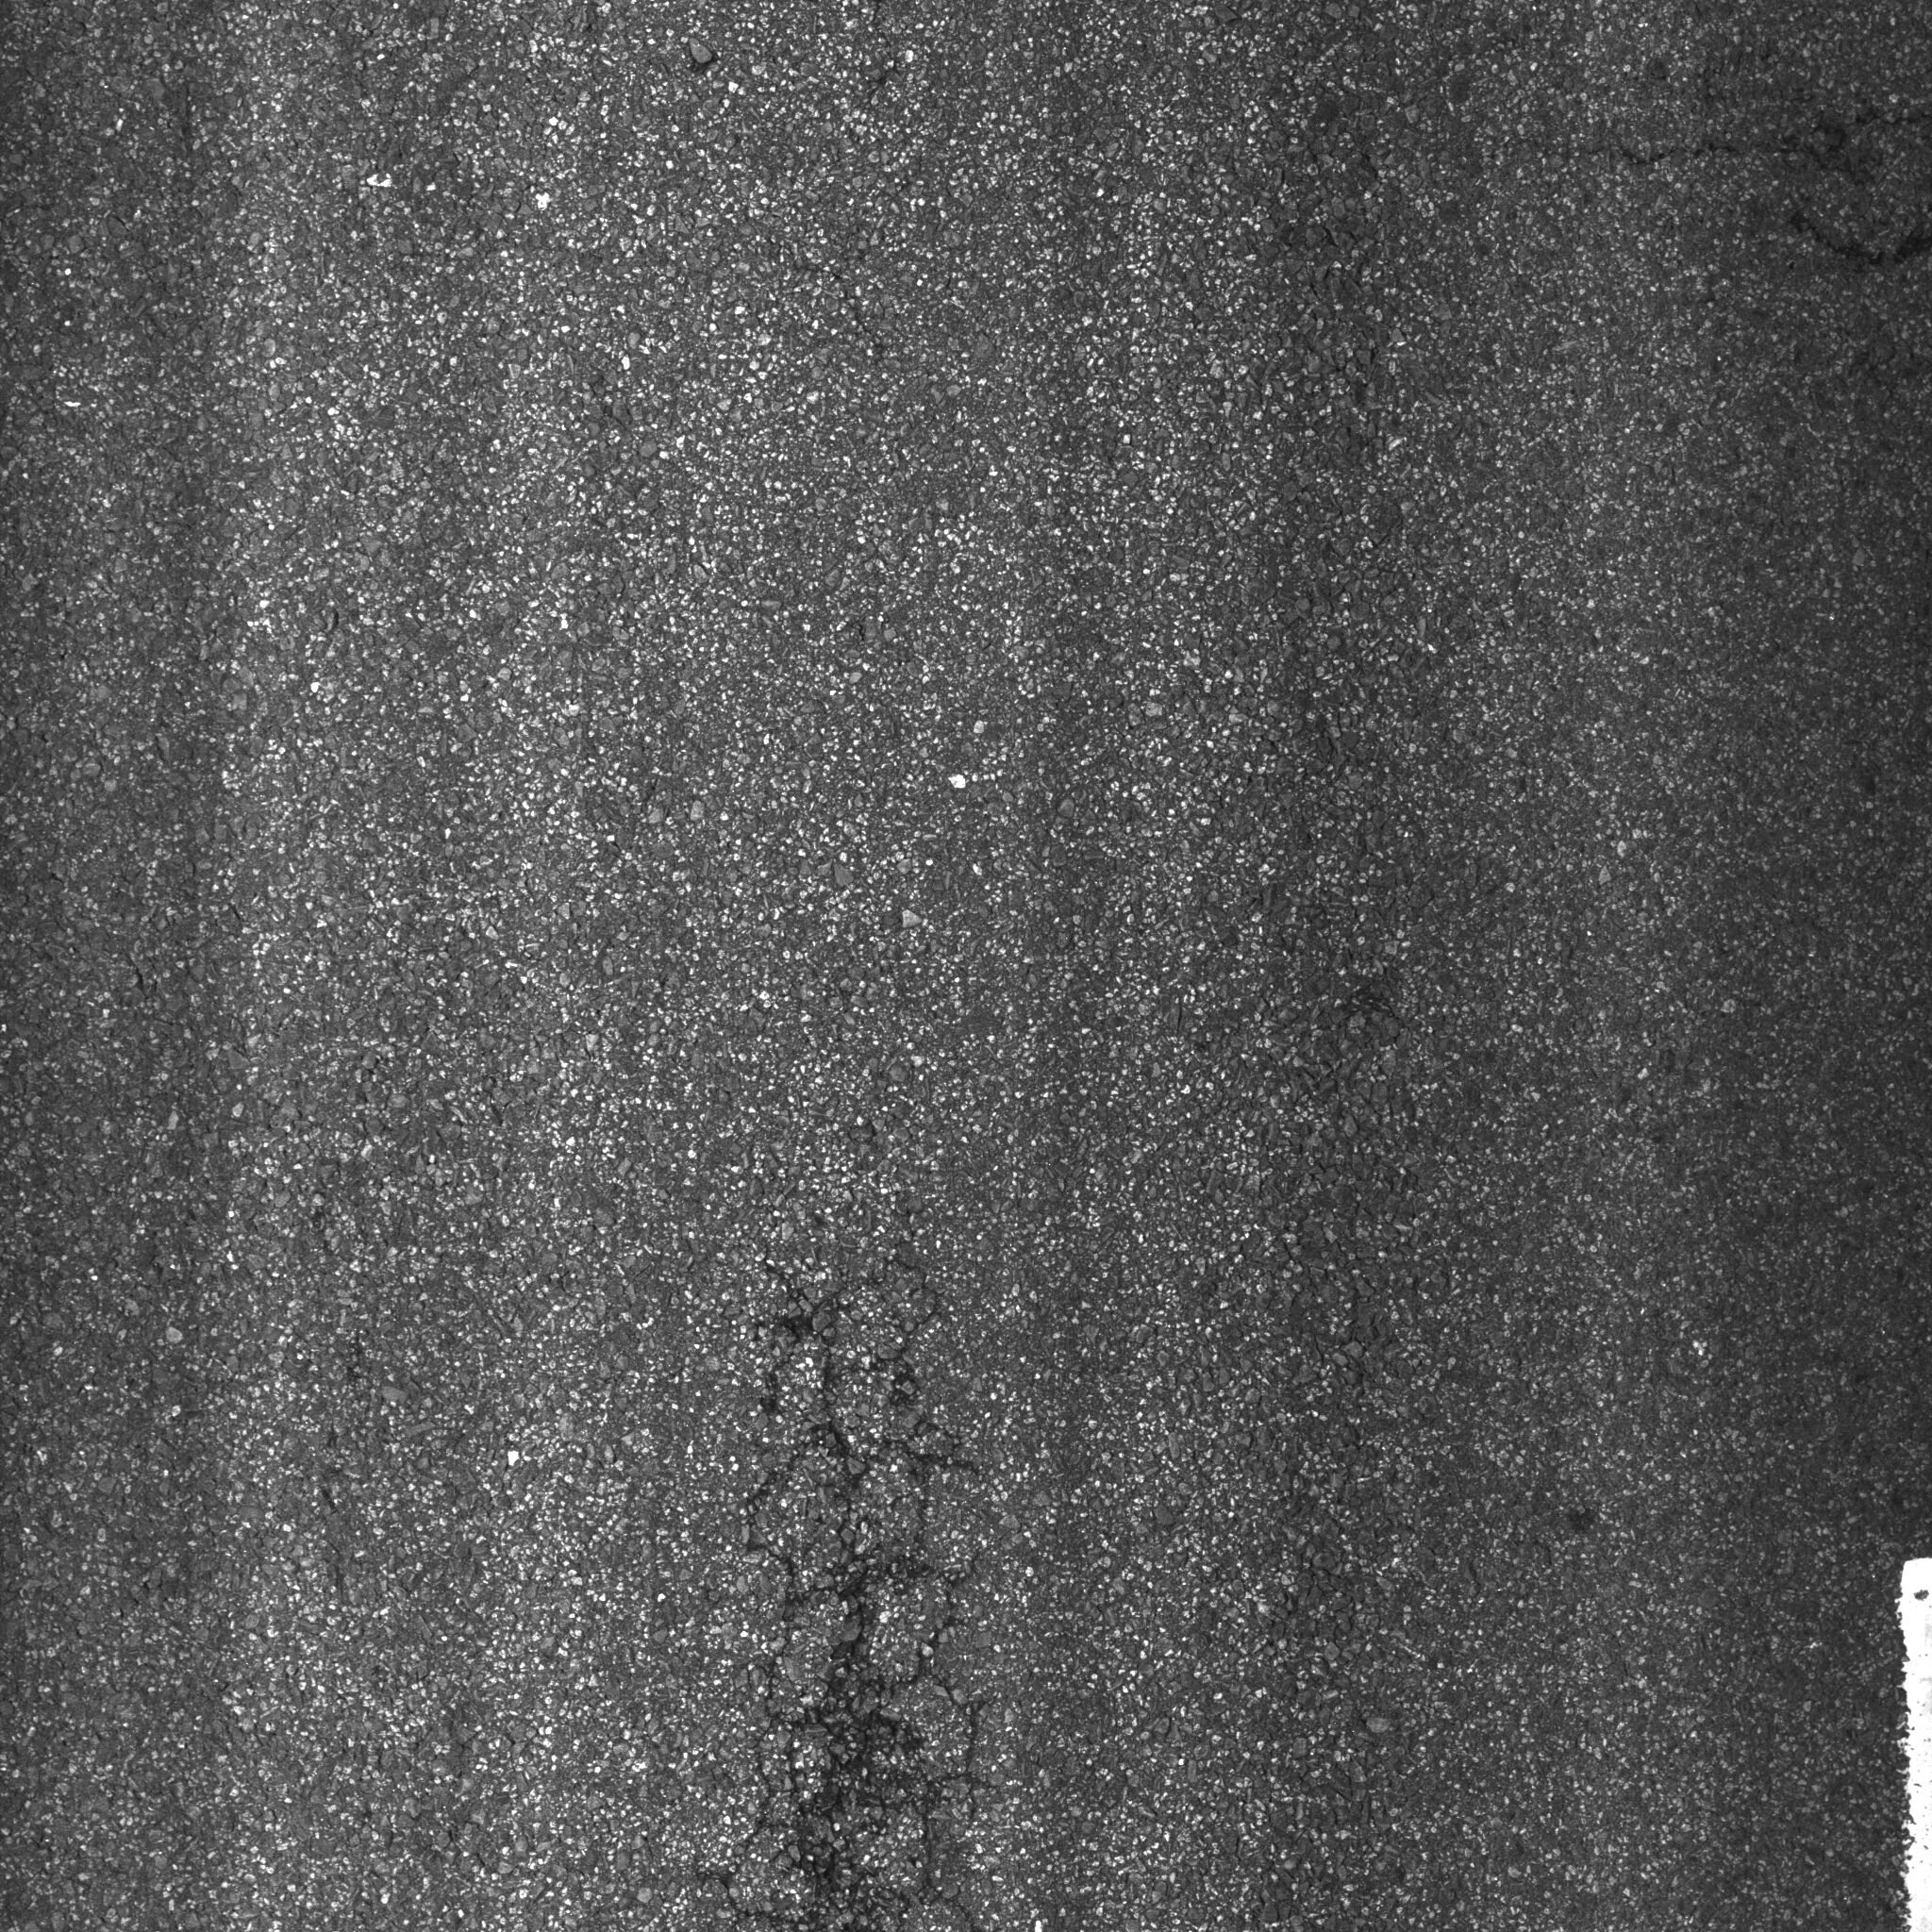alligator: (656, 1210, 1154, 1932)
